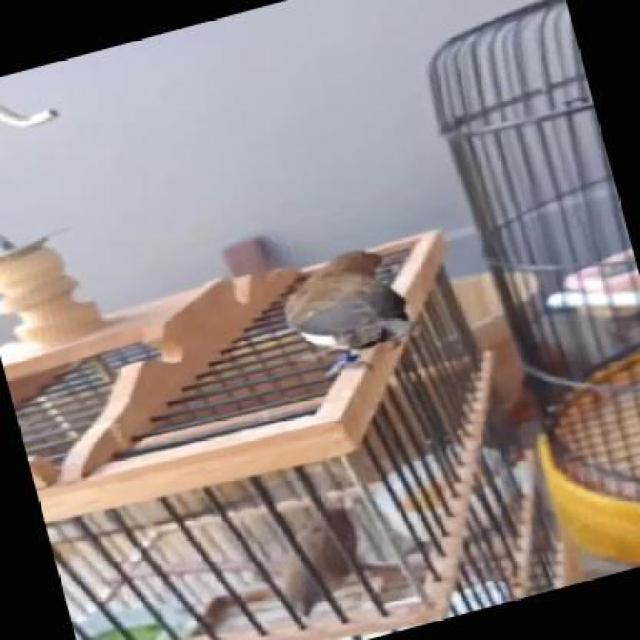Bird: (285, 247, 416, 377), (279, 503, 362, 621)
